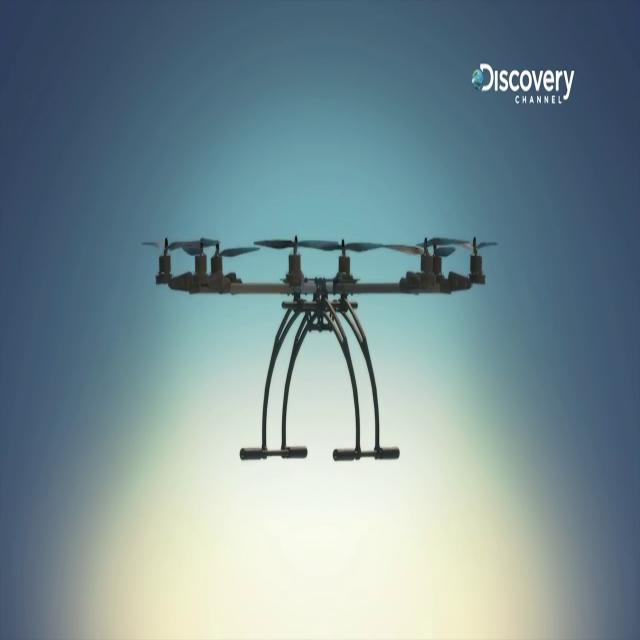drone: (138, 162, 522, 509)
